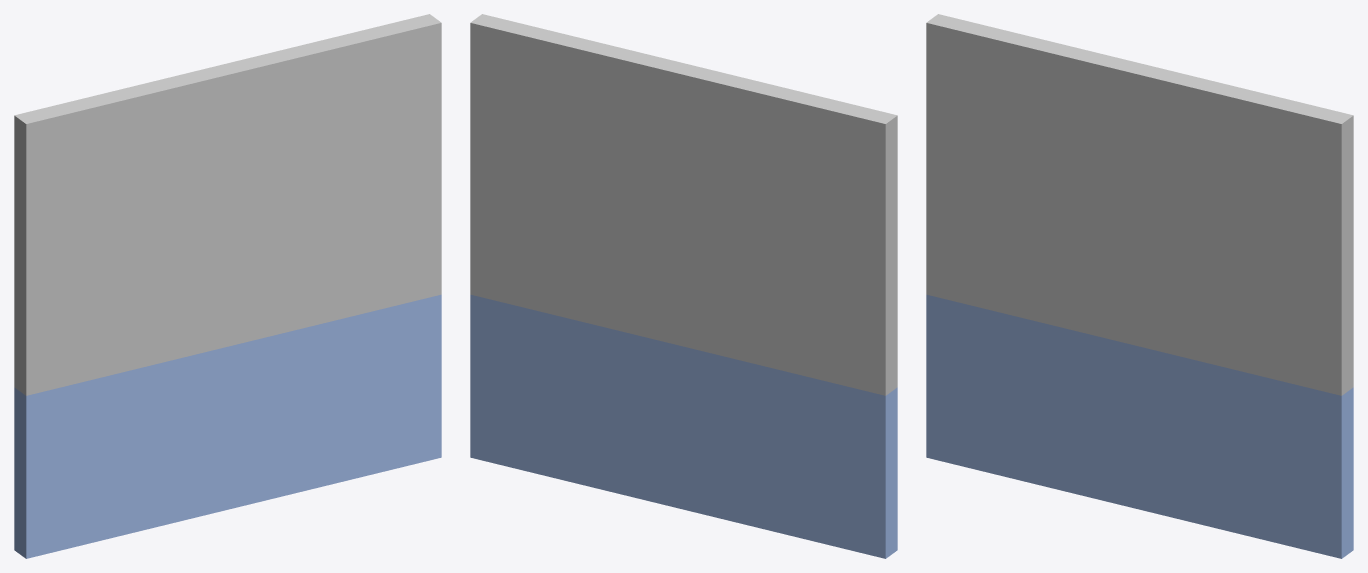
Rendered from Wall_Basic.fbx.
The picture shows the model from 3 angles, left to right: view 1: azimuth 30°, elevation 25°; view 2: azimuth 150°, elevation 25°; view 3: azimuth 330°, elevation 25°; orthographic projection.
Parts seen in each view (by area): view 1: Wall_Basic; view 2: Wall_Basic; view 3: Wall_Basic.
Part boxes in pixels (<box>): Wall_Basic: <box>14,14,441,558</box>; Wall_Basic: <box>470,14,897,558</box>; Wall_Basic: <box>926,14,1353,558</box>.
Size of the model in its own units: 4 by 4 by 0.2.
